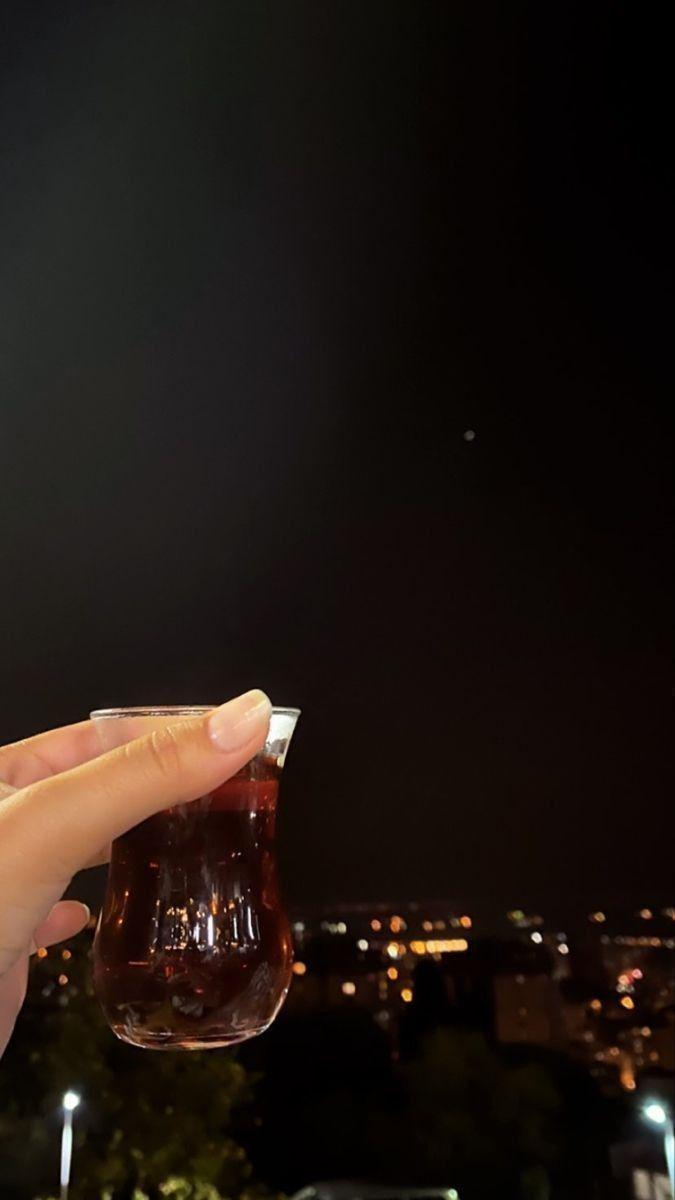glass-normal: (84, 691, 304, 1056)
